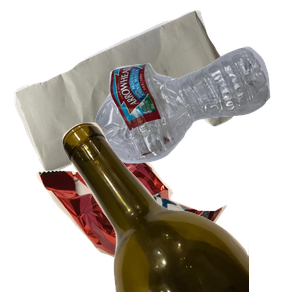glass: (60, 120, 300, 300)
paper: (12, 10, 240, 176)
plastic: (72, 44, 300, 200)
trash: (34, 136, 253, 300)
